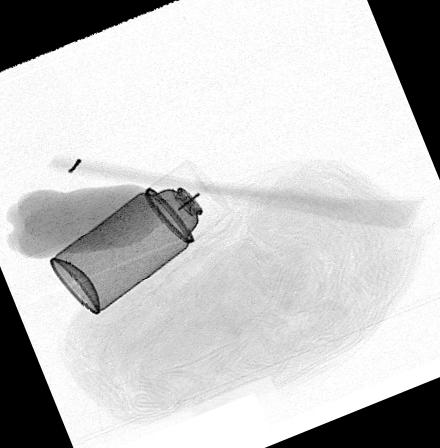Sprayer: (49, 159, 236, 317)
